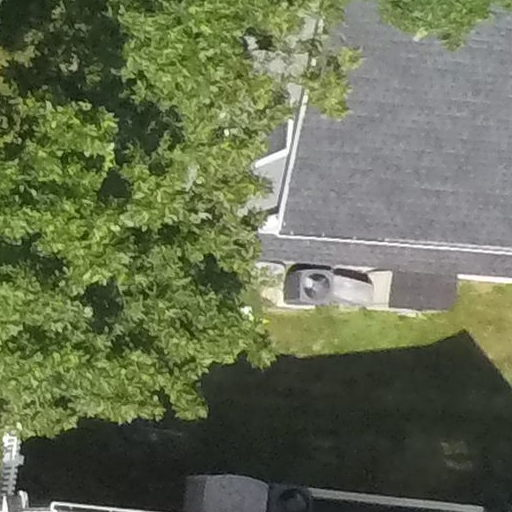air conditioner: (280, 261, 343, 323)
